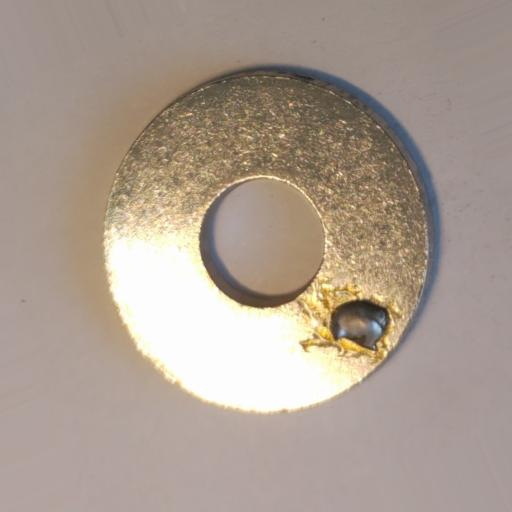excess_material: (329, 299, 391, 352)
